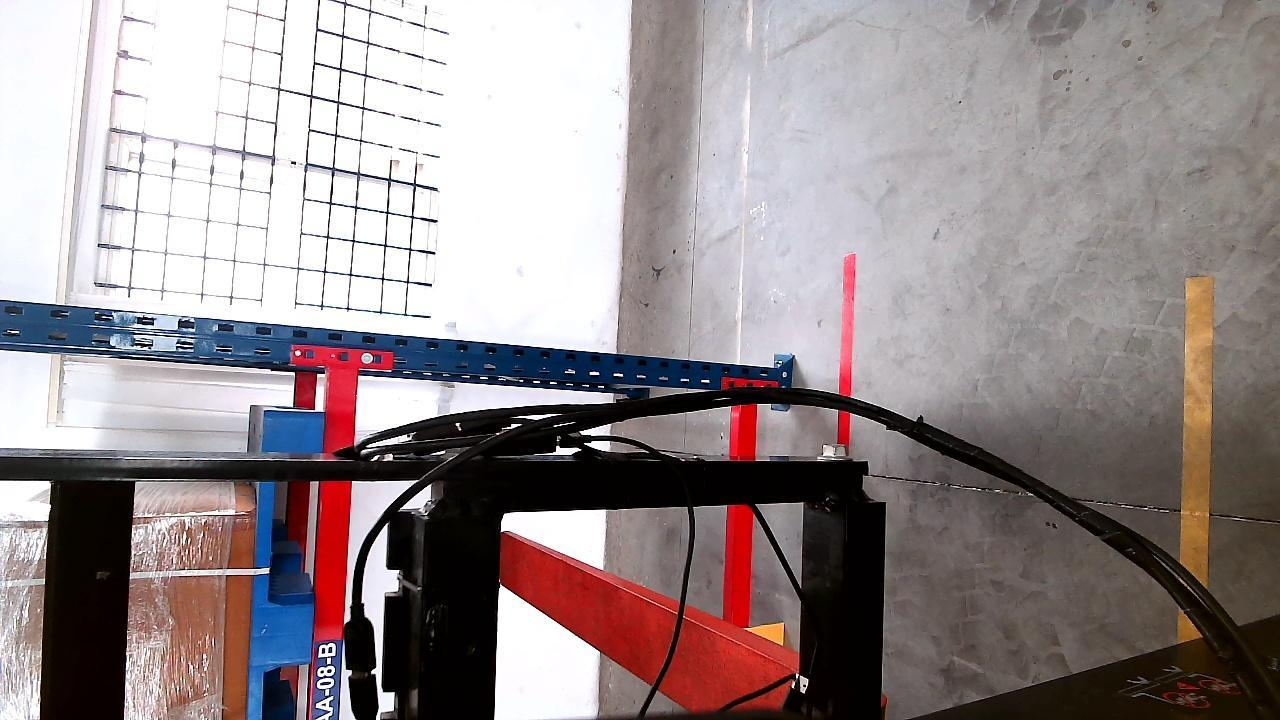red_line: (840, 252, 855, 442)
yellow_line: (1181, 264, 1215, 598)
